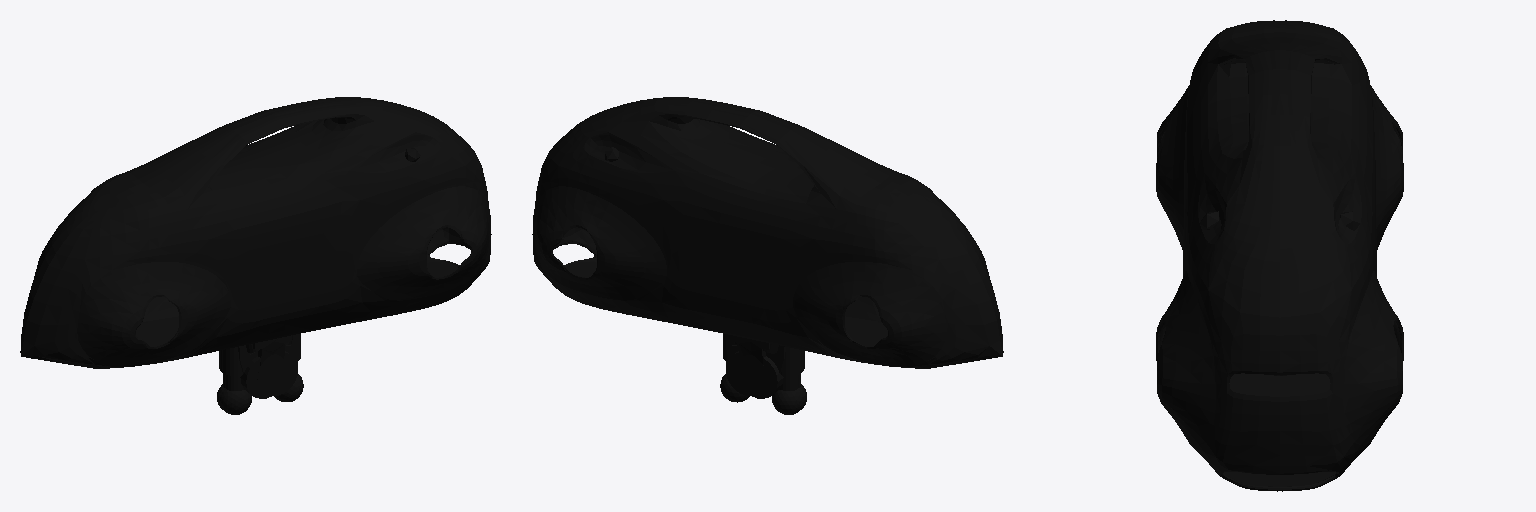
URDF robot description (LittleDog):
<?xml version="1.0" encoding="UTF-8"?>


<robot name="LittleDog">
  
  <!-- converted from https://svn.csail.mit.edu/littledog/trunk/simulation/little_dog.sd -->
  <link name="ground"/>
  <joint name="base_joint" type="fixed">
    <origin rpy="0 0 0" xyz="0 0 0"/>
    <parent link="ground"/>
    <child link="body"/>
  </joint>

  <link name="body">
    <inertial>
      <mass value="1.800000" />
      <inertia ixx="0.001625" ixy="0" ixz="0" iyy="0.009178" iyz="0" izz="0.008794" />
    </inertial>
    <visual>
      <geometry>
        <mesh filename="../meshes/body.stl"  />
      </geometry>
      <material name="black">
      	<color rgba="0.1 0.1 0.1 1" />
      </material>
    </visual>
  </link>

  <link name="front_left_hip">
    <inertial>
      <origin xyz="0.000000 0.002900 0.000000" rpy="0 0 0" />
      <mass value="0.062300" />
      <inertia ixx="0.000004" ixy="0" ixz="0" iyy="0.000015" iyz="0" izz="0.000015" />
    </inertial>
<!--
    <visual>
      <origin xyz="0 0 0" rpy="0 0 0" />
      <geometry>
        <mesh filename="../meshes/front_left_hip.stl" scale=".0254 .0254 .0254"/>
      </geometry>
      <material name="black" />
    </visual>
-->
  </link>

  <joint name="front_left_hip_roll" type="revolute">
    <parent link="body" />
    <child link="front_left_hip" />
    <origin xyz="0.101000 0.036250 0.000000" />
    <axis xyz="1 0 0" />
    <limit effort="100.0" velocity="10.0" lower="-.6" upper=".6"/>
  
    
  </joint>
  <transmission type="SimpleTransmission">
    <joint name="front_left_hip_roll"/>
    <actuator name="front_left_hip_roll"/>
  </transmission>
  
  <link name="front_left_upper_leg">
    <inertial>
      <origin xyz="0.000000 0.000000 -0.016600" rpy="0 0 0" />
      <mass value="0.127900" />
      <inertia ixx="0.000082" ixy="0" ixz="0" iyy="0.000089" iyz="0" izz="0.000015" />
    </inertial>
    <visual>
      <origin xyz="0 0 0" rpy="0 0 0" />
      <geometry>
        <mesh filename="../meshes/front_left_upper.stl"/>
      </geometry>
      <material name="black" />
    </visual>
  </link>
  
  <joint name="front_left_hip_pitch" type="revolute">
    <parent link="front_left_hip" />
    <child link="front_left_upper_leg" />
    <origin xyz="0 0.0236 0" />
    <axis xyz="0 1 0" />
    <limit effort="100.0" velocity="10.0" lower="-3.5" upper="2.4"/>
 
  </joint>  

  <transmission type="SimpleTransmission">
    <joint name="front_left_hip_pitch"/>
    <actuator name="front_left_hip_pitch"/>
  </transmission>
  
  <link name="front_left_lower_leg"> 
    <inertial>
      <origin xyz="0.000000 0.000000 -0.020200" rpy="0 0 0" />
      <mass value="0.046400" />
      <inertia ixx="0.000038" ixy="0" ixz="0" iyy="0.000035" iyz="0" izz="0.000004" />
    </inertial>
    <visual>
      <origin xyz="0 0 0" rpy="0 0 0" />
      <geometry>
        <mesh filename="../meshes/front_left_lower.stl"/>
      </geometry>
      <material name="black" />
    </visual>

  </link>
  
  <joint name="front_left_knee" type="revolute">
    <parent link="front_left_upper_leg" />
    <child link="front_left_lower_leg" />
    <origin xyz="0 0 -0.0751" />
    <axis xyz="0 1 0" />
    <limit effort="100.0" velocity="10.0" lower="-3.1" upper="1.0"/>
    
  </joint>

  <transmission type="SimpleTransmission">
    <joint name="front_left_knee"/>
    <actuator name="front_left_knee"/>
  </transmission>

  <frame link="front_left_lower_leg" name="front_left_foot_center" xyz="-0.0265 0 -0.0985"/>

  <link name="front_right_hip">
    <inertial>
      <origin xyz="0.000000 -0.002900 0.000000" rpy="0 0 0" />
      <mass value="0.062300" />
      <inertia ixx="0.000004" ixy="0" ixz="0" iyy="0.000015" iyz="0" izz="0.000015" />
    </inertial>
<!--
    <visual>
      <origin xyz="0 0 0" rpy="0 0 0" />
      <geometry>
        <mesh filename="../meshes/front_right_hip.stl" scale="0.0254 0.0254 0.0254"/>
      </geometry>
      <material name="black" />
    </visual>
 -->
   </link>

  <joint name="front_right_hip_roll" type="revolute">
    <parent link="body" />
    <child link="front_right_hip" />
    <origin xyz="0.101000 -0.036250 0.000000" />
    <axis xyz="1 0 0" />
    <limit effort="100.0" velocity="10.0" lower="-.6" upper=".6"/>
    
  </joint>
  
  <transmission type="SimpleTransmission">
    <joint name="front_right_hip_roll"/>
    <actuator name="front_right_hip_roll"/>
  </transmission>

  <link name="front_right_upper_leg">
    <inertial>
      <origin xyz="0.000000 0.000000 -0.016600" rpy="0 0 0" />
      <mass value="0.127900" />
      <inertia ixx="0.000082" ixy="0" ixz="0" iyy="0.000089" iyz="0" izz="0.000015" />
    </inertial>
    <visual>
      <origin xyz="0 0 0" rpy="0 0 0" />
      <geometry>
        <mesh filename="../meshes/front_right_upper.stl"/>
      </geometry>
      <material name="black"/>
    </visual>
  </link>

  <joint name="front_right_hip_pitch" type="revolute">
    <parent link="front_right_hip" />
    <child link="front_right_upper_leg" />
    <origin xyz="0 -0.0236 0" />
    <axis xyz="0 1 0" />
    <limit effort="100.0" velocity="10.0" lower="-3.5" upper="2.4"/>
    
  </joint>
  
  <transmission type="SimpleTransmission">
    <joint name="front_right_hip_pitch"/>
    <actuator name="front_right_hip_pitch"/>
  </transmission>
  
  <link name="front_right_lower_leg"> 
    <inertial>
      <origin xyz="0.000000 0.000000 -0.020200" rpy="0 0 0" />
      <mass value="0.046400" />
      <inertia ixx="0.000038" ixy="0" ixz="0" iyy="0.000035" iyz="0" izz="0.000004" />
    </inertial>
    <visual>
      <origin xyz="0 0 0" rpy="0 0 0" />
      <geometry>
        <mesh filename="../meshes/front_right_lower.stl" />
      </geometry>
      <material name="black"/>
    </visual>
    
    



  </link>

  <joint name="front_right_knee" type="revolute">
    <parent link="front_right_upper_leg" />
    <child link="front_right_lower_leg" />
    <origin xyz="0 0 -0.0751" />
    <axis xyz="0 1 0" />
    <limit effort="100.0" velocity="10.0" lower="-3.1" upper="1.0"/>
    
  </joint>
  
  <transmission type="SimpleTransmission">
    <joint name="front_right_knee"/>
    <actuator name="front_right_knee"/>
  </transmission>
  
  <frame link="front_right_lower_leg" name="front_right_foot_center" xyz="-0.0265 0 -0.0985"/>
  
  <link name="back_left_hip">
    <inertial>
      <origin xyz="0.000000 0.002900 0.000000" rpy="0 0 0" />
      <mass value="0.062300" />
      <inertia ixx="0.000004" ixy="0" ixz="0" iyy="0.000015" iyz="0" izz="0.000015" />
    </inertial>
<!--    <visual>
      <origin xyz="0 0 0" rpy="0 0 0" />
      <geometry>
        <mesh filename="../meshes/back_left_hip.stl" scale="0.0254 0.0254 0.0254"/>
      </geometry>
      <material name="black" />
    </visual>
-->
  </link>

  <joint name="back_left_hip_roll" type="revolute">
    <parent link="body" />
    <child link="back_left_hip" />
    <origin xyz="-0.101000 0.036250 0.000000" />
    <axis xyz="1 0 0" />
    <limit effort="100.0" velocity="10.0" lower="-.6" upper=".6"/>
    
  </joint>
  
  <transmission type="SimpleTransmission">
    <joint name="back_left_hip_roll"/>
    <actuator name="back_left_hip_roll"/>
  </transmission>
  
  <link name="back_left_upper_leg">
    <inertial>
      <origin xyz="0.000000 0.000000 -0.016600" rpy="0 0 0" />
      <mass value="0.127900" />
      <inertia ixx="0.000082" ixy="0" ixz="0" iyy="0.000089" iyz="0" izz="0.000015" />
    </inertial>
    <visual>
      <origin xyz="0 0 0" rpy="0 0 0" />
      <geometry>
        <mesh filename="../meshes/back_left_upper.stl"/>
      </geometry>
      <material name="black" />
    </visual>
  </link>

  <joint name="back_left_hip_pitch" type="revolute">
    <parent link="back_left_hip" />
    <child link="back_left_upper_leg" />
    <origin xyz="0 0.0236 0" />
    <axis xyz="0 1 0" />
    <limit effort="100.0" velocity="10.0" lower="-2.4" upper="3.5"/>
    
  </joint>
  
  <transmission type="SimpleTransmission">
    <joint name="back_left_hip_pitch"/>
    <actuator name="back_left_hip_pitch"/>
  </transmission>
  
  <link name="back_left_lower_leg"> 
    <inertial>
      <origin xyz="0.000000 0.000000 -0.020200" rpy="0 0 0" />
      <mass value="0.046400" />
      <inertia ixx="0.000038" ixy="0" ixz="0" iyy="0.000035" iyz="0" izz="0.000004" />
    </inertial>
    <visual>
      <origin xyz="0 0 0" rpy="0 0 0" />
      <geometry>
        <mesh filename="../meshes/back_left_lower.stl"/>
      </geometry>
      <material name="black" />
    </visual>

  </link>

  <joint name="back_left_knee" type="revolute">
    <parent link="back_left_upper_leg" />
    <child link="back_left_lower_leg" />
    <origin xyz="0 0 -0.0751" />
    <axis xyz="0 1 0" />
    <limit effort="100.0" velocity="10.0" lower="-1.0" upper="3.1"/>
    
  </joint>

  <transmission type="SimpleTransmission">
    <joint name="back_left_knee"/>
    <actuator name="back_left_knee"/>
  </transmission>
  
  <frame link="back_left_lower_leg" name="back_left_foot_center" xyz="0.0265 0 -0.0985"/>
  
  <link name="back_right_hip">
    <inertial>
      <origin xyz="0.000000 -0.002900 0.000000" rpy="0 0 0" />
      <mass value="0.062300" />
      <inertia ixx="0.000004" ixy="0" ixz="0" iyy="0.000015" iyz="0" izz="0.000015" />
    </inertial>
<!--    <visual>
      <origin xyz="0 0 0" rpy="0 0 0" />
      <geometry>
        <mesh filename="../meshes/back_right_hip.stl" scale="0.0254 0.0254 0.0254"/>
      </geometry>
      <material name="black" />
    </visual>
-->
  </link>

  <joint name="back_right_hip_roll" type="revolute">
    <parent link="body" />
    <child link="back_right_hip" />
    <origin xyz="-0.101000 -0.036250 0.000000" />
    <axis xyz="1 0 0" />
    <limit effort="100.0" velocity="10.0" lower="-.6" upper=".6"/>
    
  </joint>
  
  <transmission type="SimpleTransmission">
    <joint name="back_right_hip_roll"/>
    <actuator name="back_right_hip_roll"/>
  </transmission>
  
  <link name="back_right_upper_leg">
    <inertial>
      <origin xyz="0.000000 0.000000 -0.016600" rpy="0 0 0" />
      <mass value="0.127900" />
      <inertia ixx="0.000082" ixy="0" ixz="0" iyy="0.000089" iyz="0" izz="0.000015" />
    </inertial>
    <visual>
      <origin xyz="0 0 0" rpy="0 0 0" />
      <geometry>
        <mesh filename="../meshes/back_right_upper.stl" />
      </geometry>
      <material name="black" />
    </visual>
  </link>

  <joint name="back_right_hip_pitch" type="revolute">
    <parent link="back_right_hip" />
    <child link="back_right_upper_leg" />
    <origin xyz="0 -0.0207 0" />
    <axis xyz="0 1 0" />
    <limit effort="100.0" velocity="10.0" lower="-2.4" upper="3.5"/>
    
  </joint>
  
  <transmission type="SimpleTransmission">
    <joint name="back_right_hip_pitch"/>
    <actuator name="back_right_hip_pitch"/>
  </transmission>
  
  <link name="back_right_lower_leg"> 
    <inertial>
      <origin xyz="0.000000 0.000000 -0.020200" rpy="0 0 0" />
      <mass value="0.046400" />
      <inertia ixx="0.000038" ixy="0" ixz="0" iyy="0.000035" iyz="0" izz="0.000004" />
    </inertial>
    <visual>
      <origin xyz="0 0 0" rpy="0 0 0" />
      <geometry>
        <mesh filename="../meshes/back_right_lower.stl"/>
      </geometry>
      <material name="black" />
    </visual>

  </link>

  <joint name="back_right_knee" type="revolute">
    <parent link="back_right_upper_leg" />
    <child link="back_right_lower_leg" />
    <origin xyz="0 0 -0.0751" />
    <axis xyz="0 1 0" />
    <limit effort="100.0" velocity="10.0" lower="-1.0" upper="3.1"/>
    
  </joint>

  <transmission type="SimpleTransmission">
    <joint name="back_right_knee"/>
    <actuator name="back_right_knee"/>
  </transmission>
  
  <frame link="back_right_lower_leg" name="back_right_foot_center" xyz="0.0265 0 -0.0985"/>
  
</robot>

--- Render facts (derived) ---
The picture shows the robot from 3 angles, left to right: view 1: azimuth 30°, elevation 25°; view 2: azimuth 150°, elevation 25°; view 3: azimuth 270°, elevation 25°; orthographic projection.
Robot: LittleDog — 14 links, 13 joints (12 revolute, 1 fixed); root link ground; default pose: all joints at 0.
Links seen in each view (by area): view 1: body, front_right_upper_leg, front_right_lower_leg, back_right_upper_leg; view 2: body, front_left_upper_leg, front_left_lower_leg, back_left_upper_leg; view 3: body.
Link boxes in pixels (x1,y1,x2,y2): body: [20, 97, 491, 368]; front_right_upper_leg: [253, 334, 298, 395]; front_right_lower_leg: [220, 347, 251, 414]; back_right_upper_leg: [238, 335, 291, 398]; body: [532, 97, 1003, 368]; front_left_upper_leg: [725, 334, 769, 395]; front_left_lower_leg: [772, 347, 803, 414]; back_left_upper_leg: [732, 335, 785, 398]; body: [1156, 20, 1403, 490].
Bounding box of the posed robot: 13.01 × 4.28 × 7.83 m (x, y, z).
Meshes: 9 distinct files referenced, 9 mesh visuals loaded (9 binary STL).